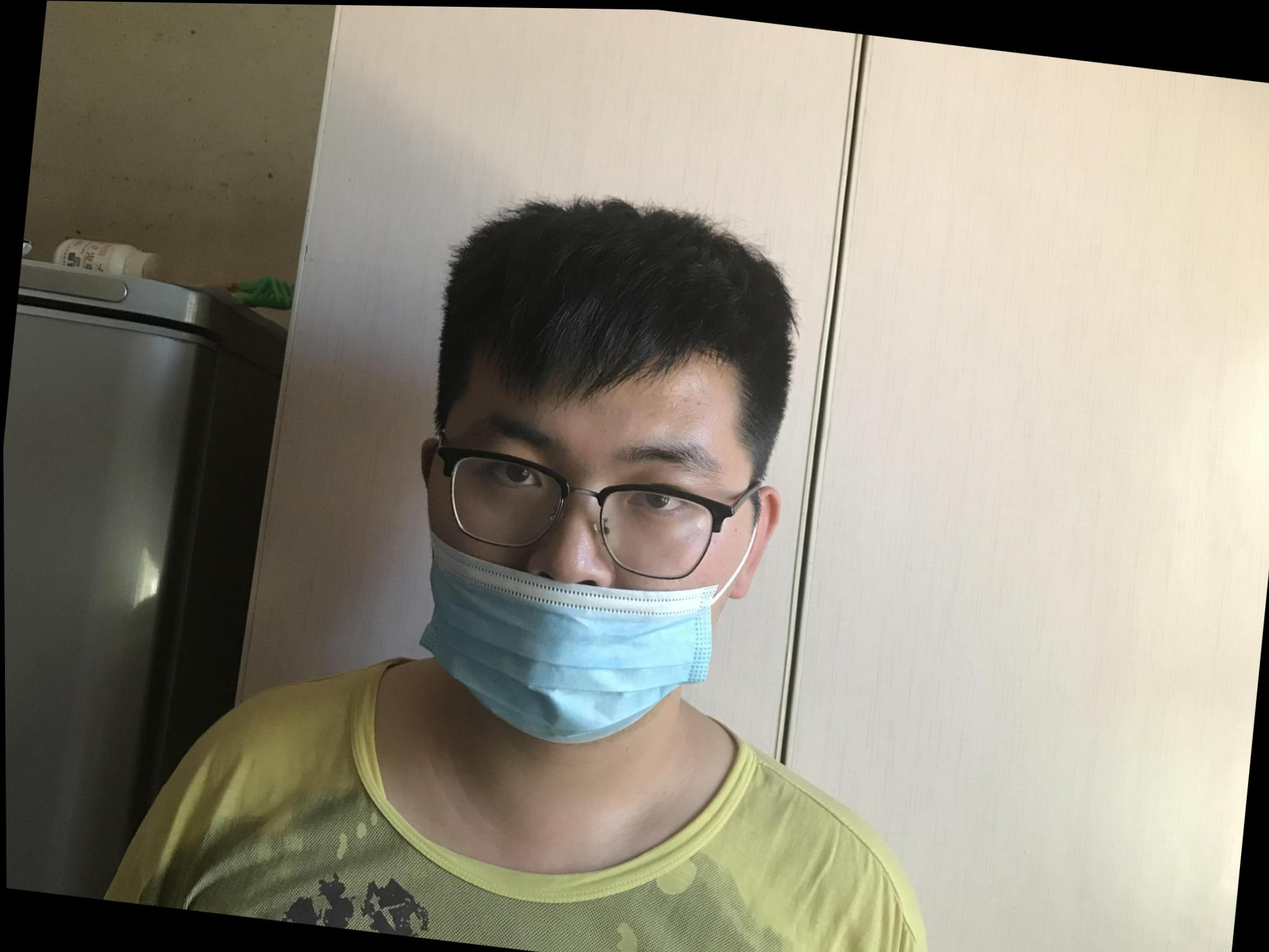WRONG: (403, 359, 749, 757)
